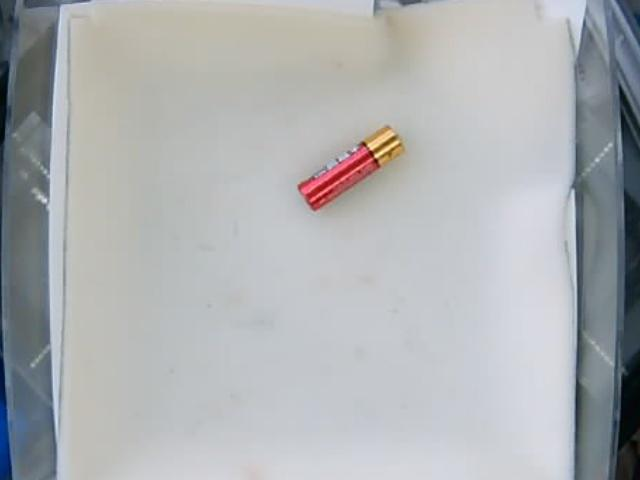Battery: (295, 123, 407, 211)
